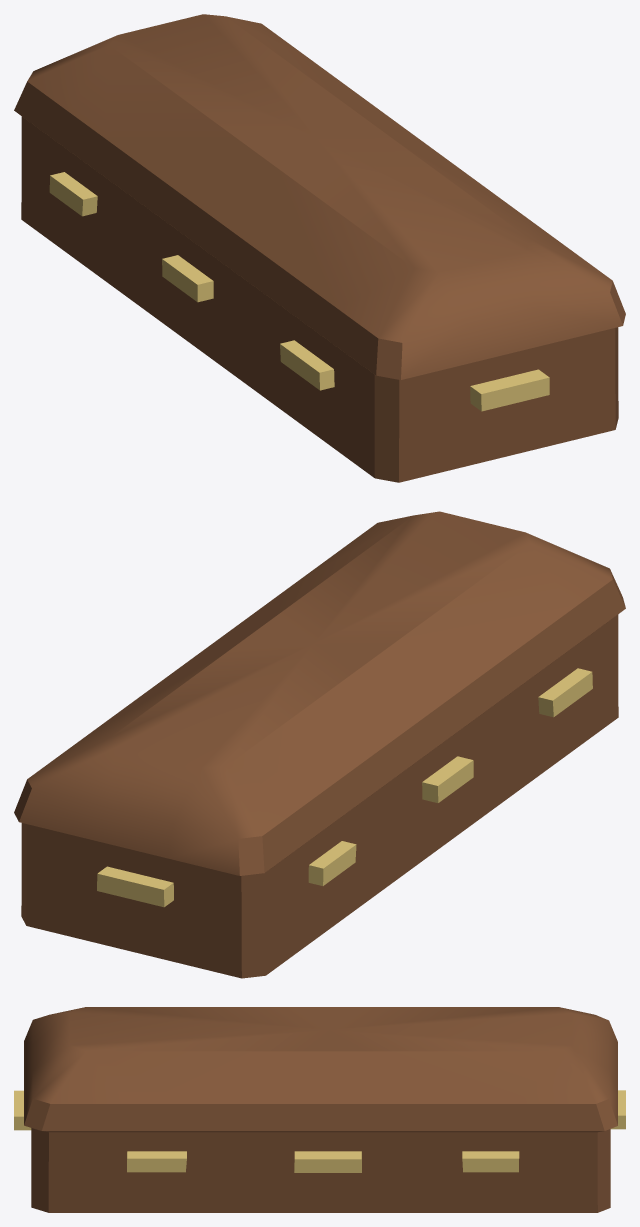
Rendered from casket.fbx.
3 views of the same model, one above another, from view 1: azimuth 30°, elevation 25°; view 2: azimuth 150°, elevation 25°; view 3: azimuth 270°, elevation 25° (orthographic). The views are drawn at different scales.
Visible parts, largest first — view 1: pCube1; view 2: pCube1; view 3: pCube1.
Boxes of the visible parts, x1=… form: pCube1: x1=14, y1=14, x2=625, y2=482; pCube1: x1=14, y1=511, x2=625, y2=978; pCube1: x1=14, y1=1007, x2=625, y2=1212.
Size of the model in its own units: 0.9579 by 0.5739 by 2.32.
